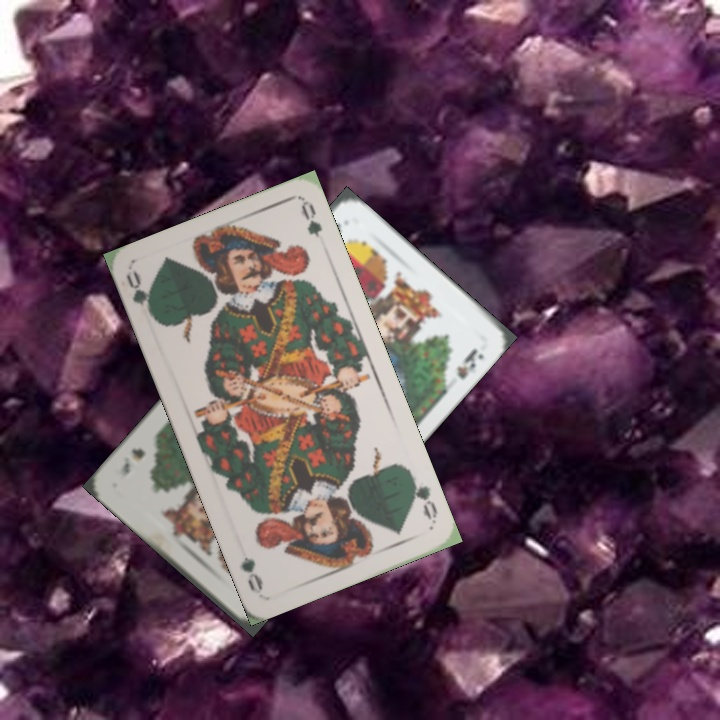GO: (122, 267, 160, 323), (406, 470, 441, 525)
